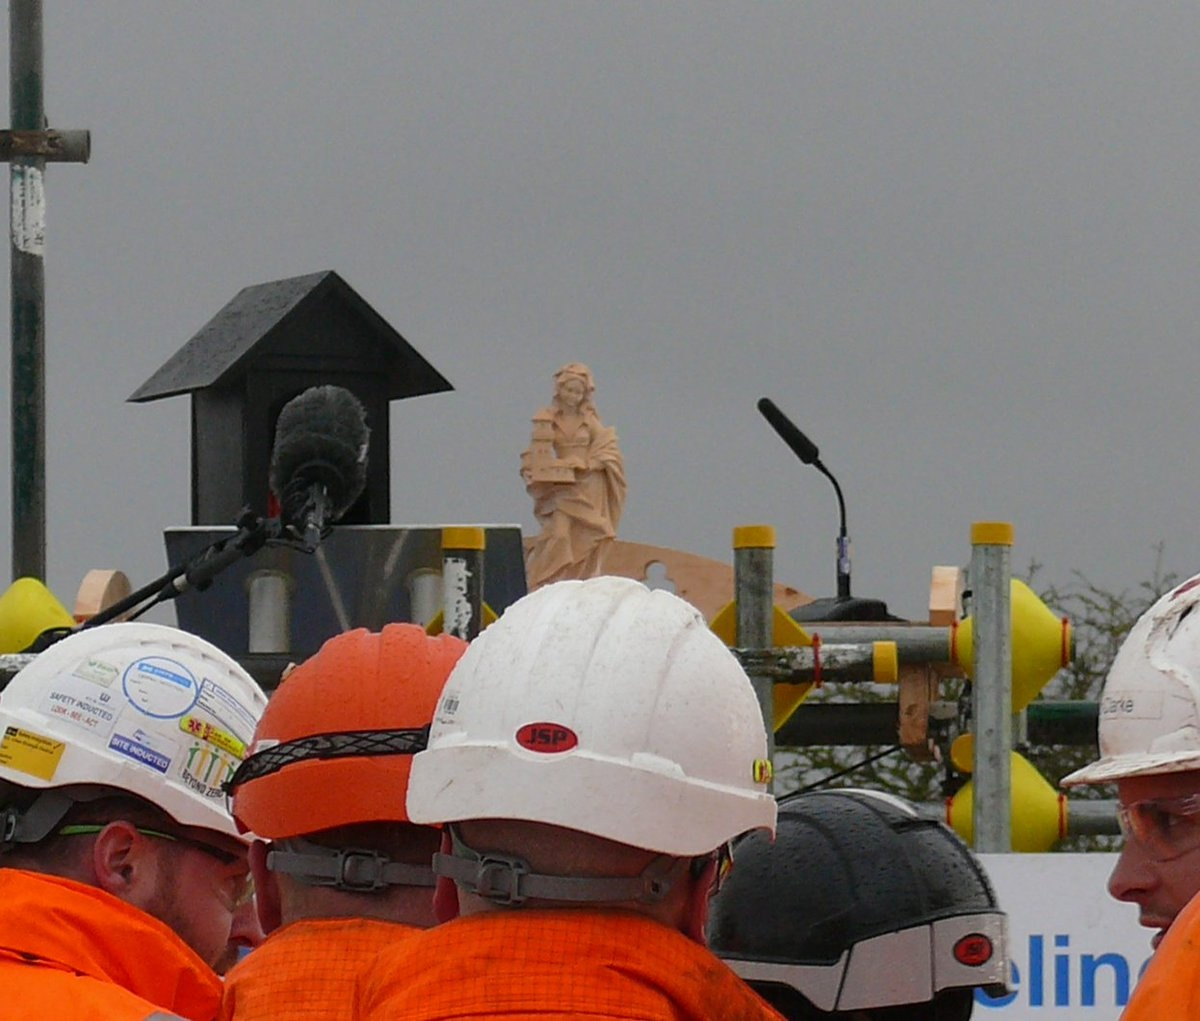red: (223, 616, 492, 929)
white: (427, 564, 767, 946), (6, 623, 278, 976), (1062, 568, 1200, 939)
